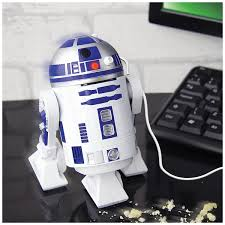r2d2: (28, 35, 148, 208)
